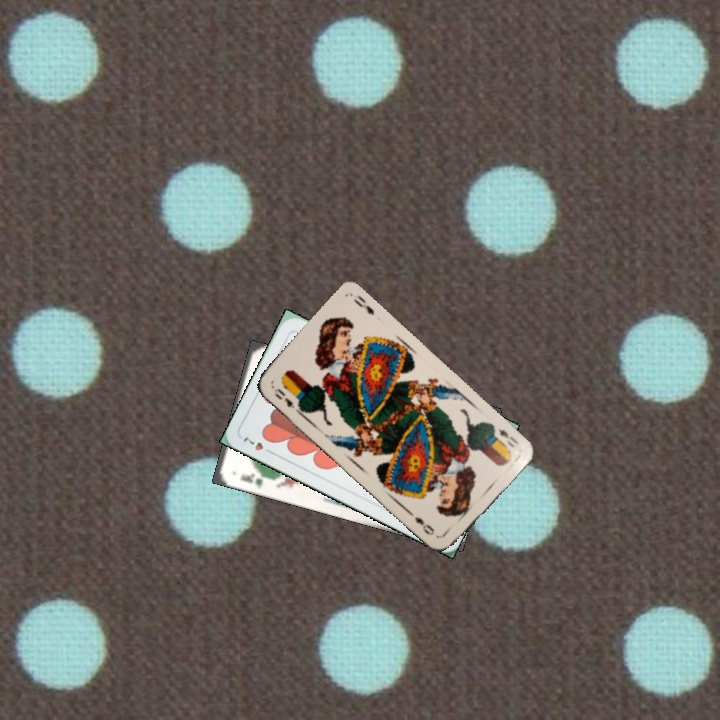EO: (270, 384, 303, 411), (494, 424, 521, 450)
GK: (236, 469, 270, 491)
H7: (239, 432, 276, 457)
